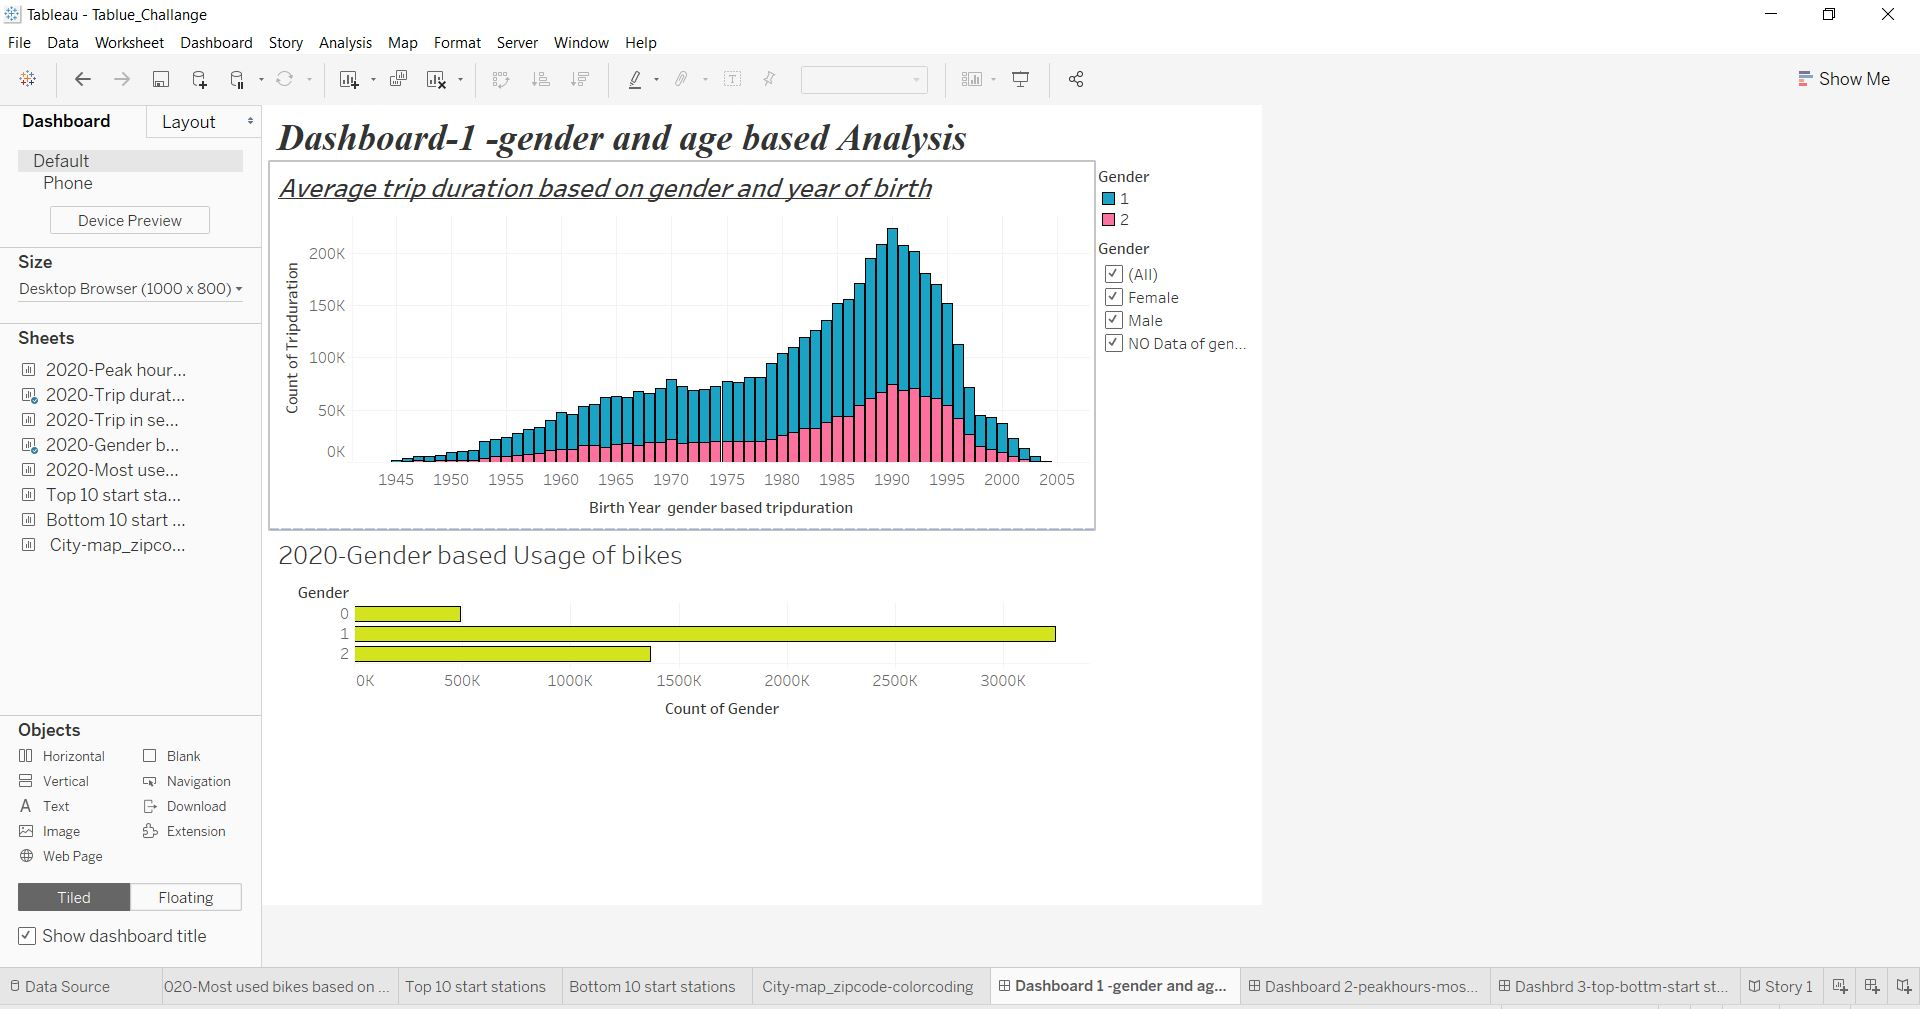

The page's visual inventory and layout, read from the dashboard file:
{"tool":"tableau","page":{"name":"Dashboard 1 -gender and age bsed","canvas":[1000,800],"ordinal":0},"visuals":[{"type":"worksheet","box":[0,0,1000,800]},{"type":"worksheet","param":"vert","box":[8,8,984,784]},{"type":"worksheet","box":[8,8,984,49]},{"type":"worksheet","param":"vert","box":[8,57,984,735]},{"type":"worksheet","param":"horz","box":[8,57,984,735]},{"type":"worksheet","box":[8,57,824,735]},{"type":"worksheet","title":"2020-Trip duration based on gender and birth year","mark":"Bar","rows":["tripduration"],"cols":["birth year"],"box":[8,57,824,367.5]},{"type":"worksheet","param":"vert","box":[832,57,160,735]},{"type":"worksheet","title":"2020-Trip duration based on gender and birth year","mark":"Bar","rows":["tripduration"],"cols":["birth year"],"param":"[federated.0ddsn1i1cwlo6c1bdmey20t8cij2].[none:gender:nk]","box":[832,57,160,72]},{"type":"worksheet","title":"2020-Gender based Usage of bikes","mark":"Automatic","rows":["gender"],"cols":["gender"],"param":"[federated.0ddsn1i1cwlo6c1bdmey20t8cij2].[none:gender:nk]","box":[832,129,160,128]},{"type":"worksheet","title":"2020-Gender based Usage of bikes","mark":"Automatic","rows":["gender"],"cols":["gender"],"box":[8,424.5,824,367.5]}]}

Visuals, with their boxes on the page's 1000x800 design canvas (x1, y1, x2, y2). These are canvas units, not pixel positions in the 1920x1009 screenshot, which may show the page scaled, cropped or inside an application window:
worksheet: <bbox>0, 0, 1000, 800</bbox>
worksheet: <bbox>8, 8, 992, 792</bbox>
worksheet: <bbox>8, 8, 992, 57</bbox>
worksheet: <bbox>8, 57, 992, 792</bbox>
worksheet: <bbox>8, 57, 992, 792</bbox>
worksheet: <bbox>8, 57, 832, 792</bbox>
"2020-Trip duration based on gender and birth year" worksheet (Bar marks): <bbox>8, 57, 832, 424</bbox>
worksheet: <bbox>832, 57, 992, 792</bbox>
"2020-Trip duration based on gender and birth year" worksheet (Bar marks): <bbox>832, 57, 992, 129</bbox>
"2020-Gender based Usage of bikes" worksheet: <bbox>832, 129, 992, 257</bbox>
"2020-Gender based Usage of bikes" worksheet: <bbox>8, 424, 832, 792</bbox>
